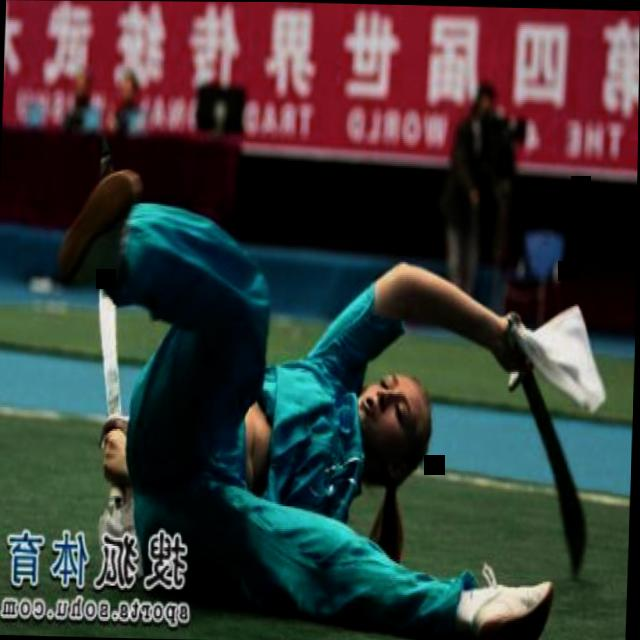Fall-Detected: (55, 164, 589, 640)
